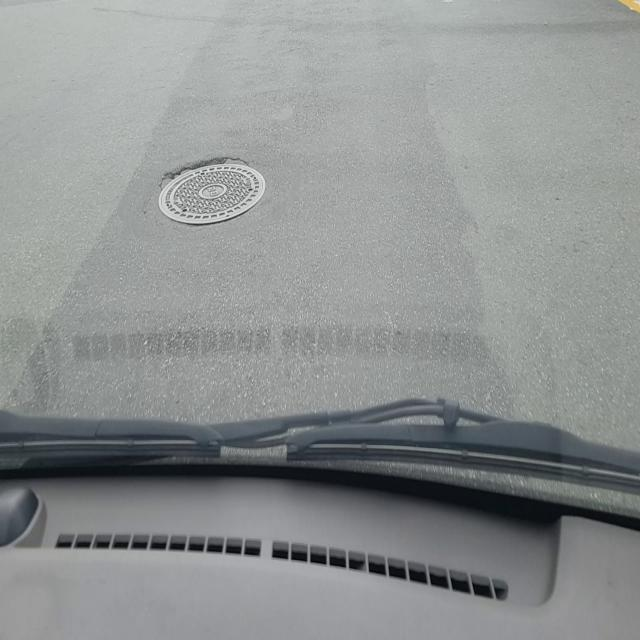Pothole: (156, 155, 268, 229)
